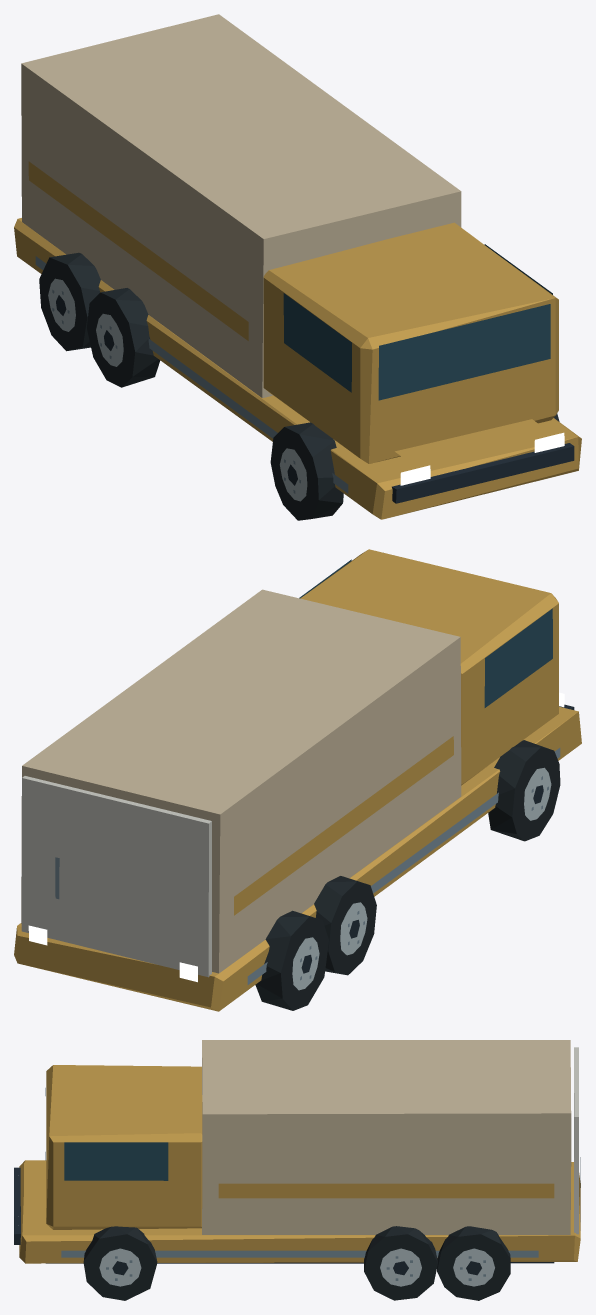
Rendered from road-box-truck.lod2.glb.
3 views of the same model, one above another, from view 1: azimuth 30°, elevation 25°; view 2: azimuth 150°, elevation 25°; view 3: azimuth 270°, elevation 25° (orthographic). The views are drawn at different scales.
Visible parts, largest first — view 1: road-box-truck__body, road-box-truck__wheel_steer_0_l, road-box-truck__wheel_steer_2_l, road-box-truck__wheel_steer_1_l; view 2: road-box-truck__body, road-box-truck__cargo_door, road-box-truck__wheel_steer_0_l, road-box-truck__wheel_steer_1_l, road-box-truck__wheel_steer_2_l; view 3: road-box-truck__body, road-box-truck__wheel_steer_0_r, road-box-truck__wheel_steer_1_r, road-box-truck__wheel_steer_2_r, road-box-truck__cargo_door.
Boxes of the visible parts, x1,y1,x2,y2 form: road-box-truck__body: [14, 14, 581, 519]; road-box-truck__wheel_steer_0_l: [270, 422, 343, 520]; road-box-truck__wheel_steer_2_l: [87, 288, 160, 387]; road-box-truck__wheel_steer_1_l: [39, 252, 100, 351]; road-box-truck__body: [14, 549, 581, 1011]; road-box-truck__cargo_door: [21, 776, 211, 977]; road-box-truck__wheel_steer_0_l: [488, 740, 560, 841]; road-box-truck__wheel_steer_1_l: [255, 910, 328, 1010]; road-box-truck__wheel_steer_2_l: [314, 876, 376, 975]; road-box-truck__body: [14, 1040, 581, 1263]; road-box-truck__wheel_steer_0_r: [83, 1226, 157, 1300]; road-box-truck__wheel_steer_1_r: [437, 1226, 510, 1300]; road-box-truck__wheel_steer_2_r: [364, 1226, 437, 1300]; road-box-truck__cargo_door: [574, 1047, 580, 1234].
Bounding box in the file's own units: 2.84 × 2.57 × 7.39.
